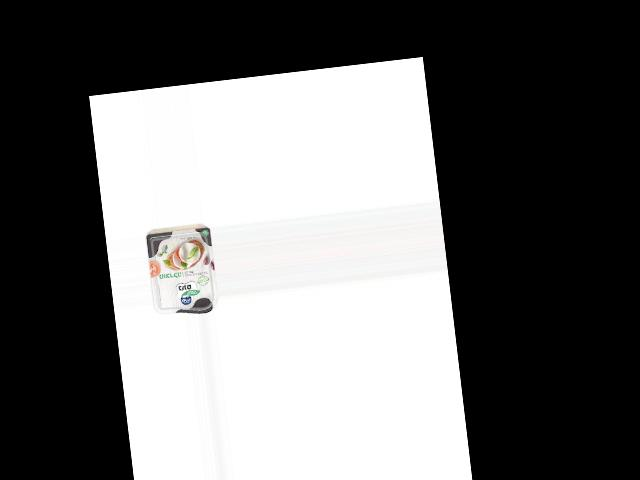cheese: (144, 226, 219, 317)
